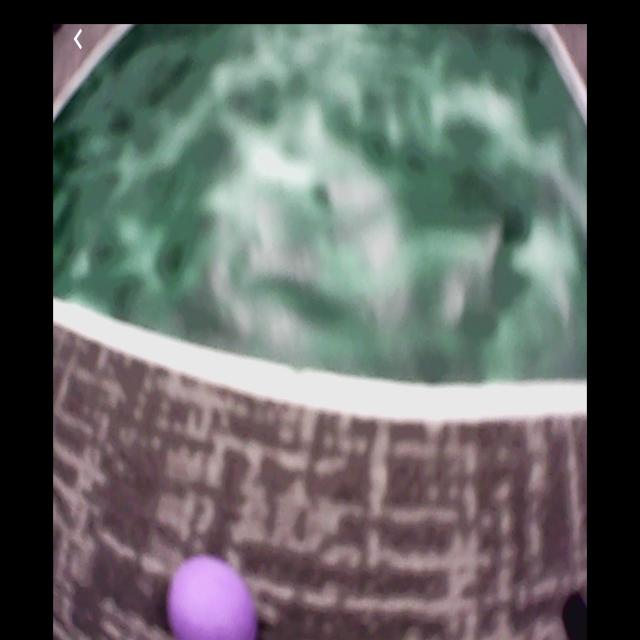ball: (168, 554, 257, 640)
